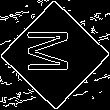M_E: (29, 31, 81, 79)
